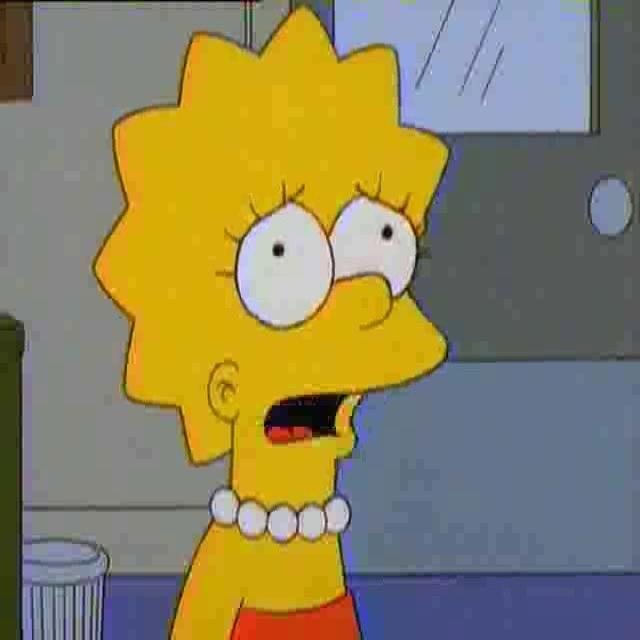Lisa Simpson: (90, 5, 450, 547)
